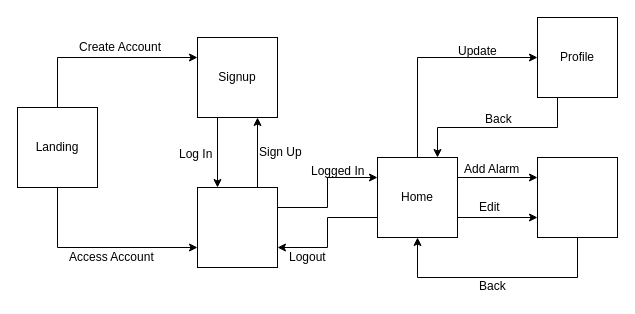
Some shapes in this 635 by 314 pixel diagram are drawn without their labels. The shapes that lost their labels are listed below. From the top down, each one's centre as x and y in pixels, then its label:
(577,197): Alarm Form
(237,227): Login
